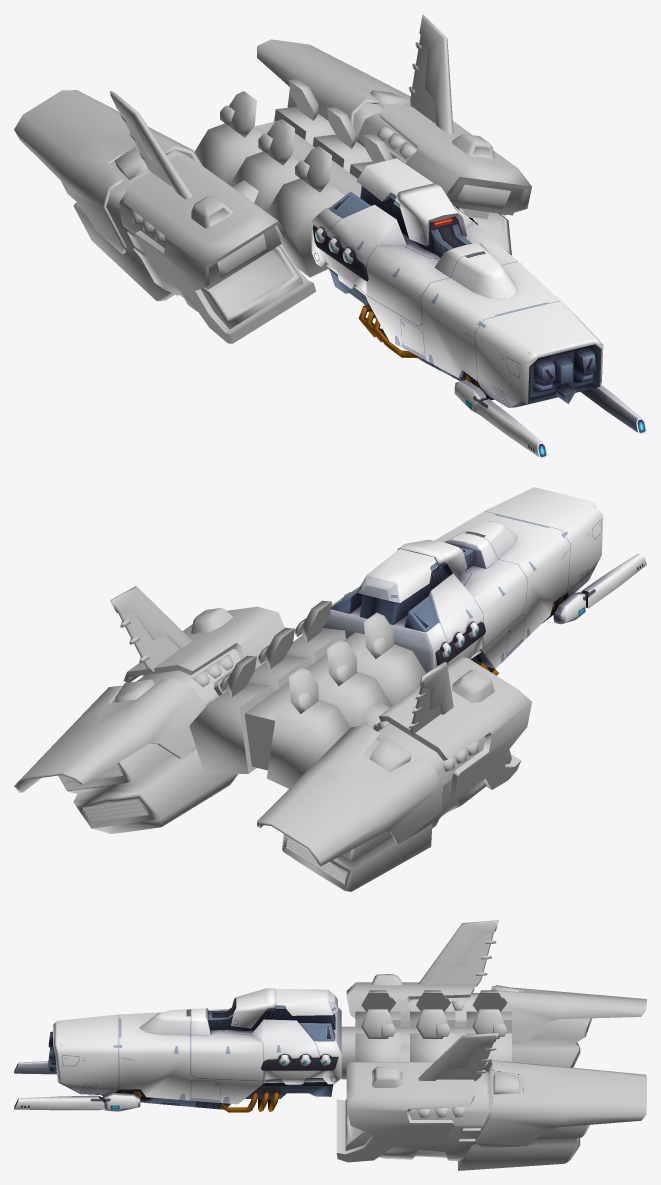
Rendered from frigate.fbx.
3 views of the same model, one above another, from view 1: azimuth 30°, elevation 25°; view 2: azimuth 150°, elevation 25°; view 3: azimuth 270°, elevation 25° (orthographic). The views are drawn at different scales.
Visible parts, largest first — view 1: CT_01, CS_02, WT_01, CS_01; view 2: WT_01, CT_01, CS_02, CS_01; view 3: CT_01, CS_02, WT_01, CS_01.
Boxes of the visible parts, x1,y1,x2,y2 form: CT_01: [311, 158, 646, 458]; CS_02: [110, 14, 531, 343]; WT_01: [14, 39, 410, 301]; CS_01: [194, 79, 393, 277]; WT_01: [14, 678, 442, 891]; CT_01: [323, 487, 646, 675]; CS_02: [110, 586, 531, 828]; CS_01: [189, 600, 425, 788]; CT_01: [14, 988, 341, 1112]; CS_02: [336, 920, 498, 1162]; WT_01: [458, 985, 646, 1170]; CS_01: [341, 990, 511, 1079].
Bounding box in the file's own units: 845 × 478 × 1834.
